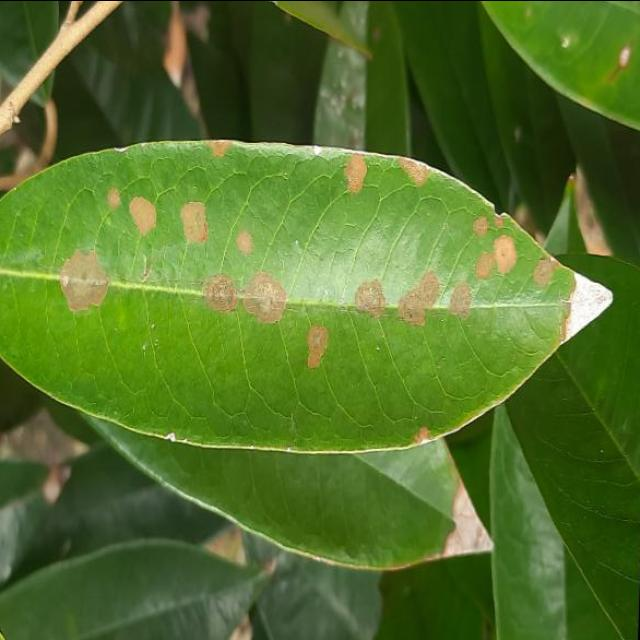Algal Leaf Spot: (0, 124, 628, 476)
